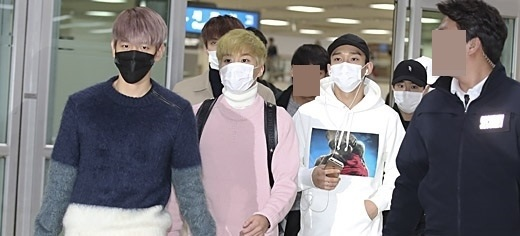face_mask: (116, 27, 152, 84), (221, 42, 256, 92), (330, 46, 368, 92), (207, 34, 241, 70)
